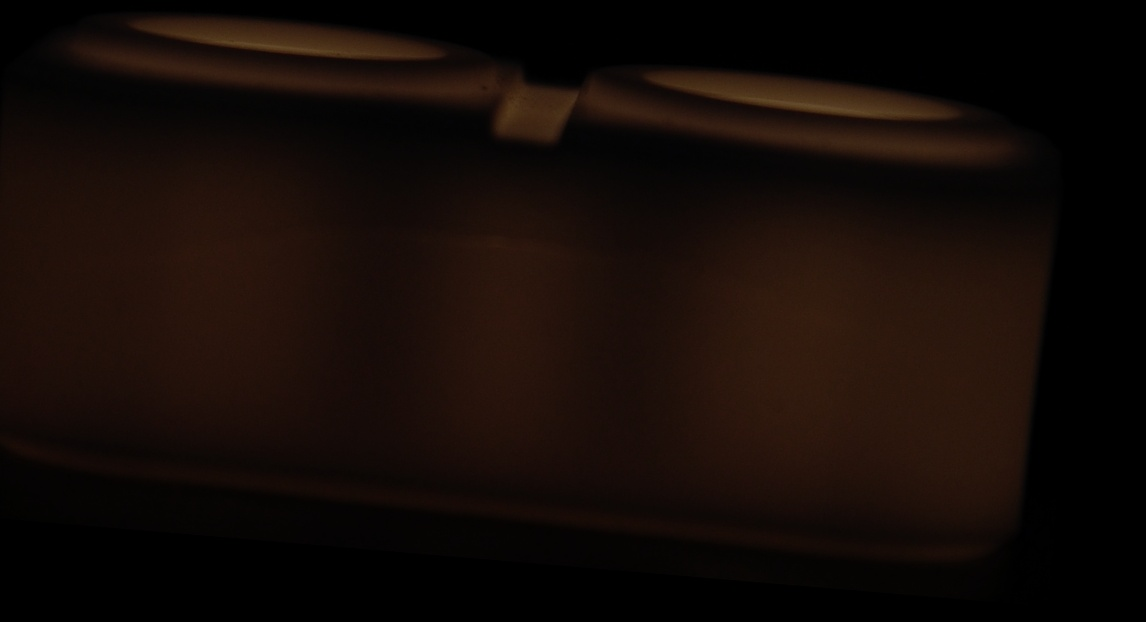flaw: (158, 200, 760, 299)
